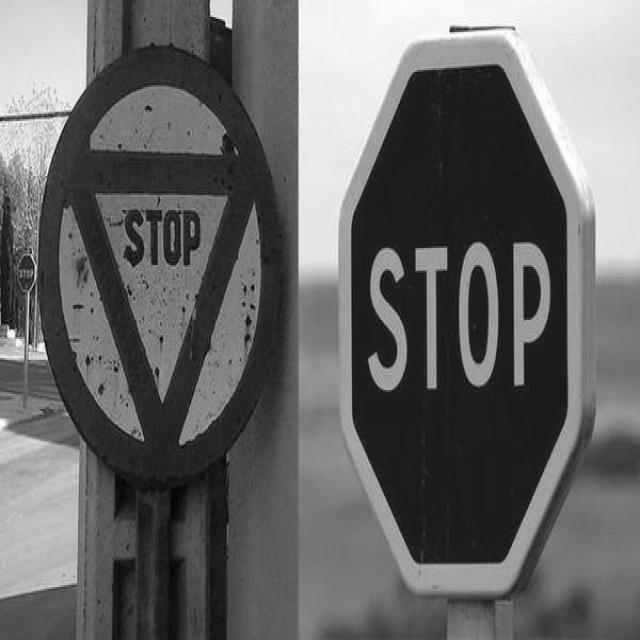Stop-sign: (320, 0, 611, 593)
